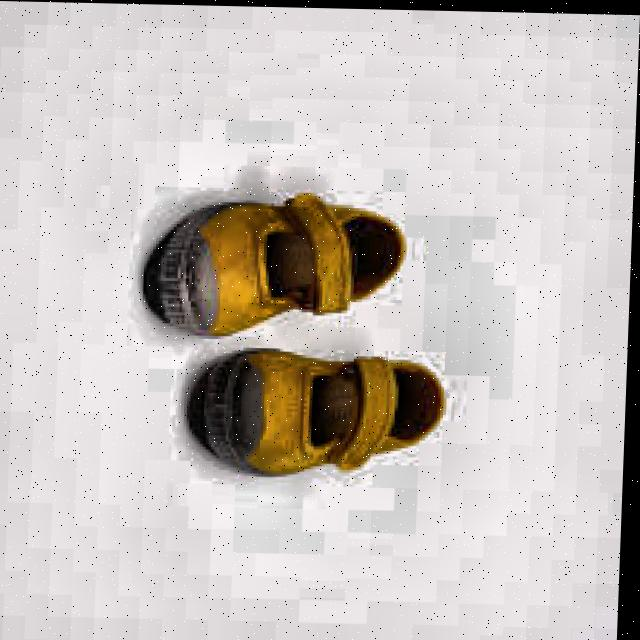shoes: (106, 130, 483, 540)
